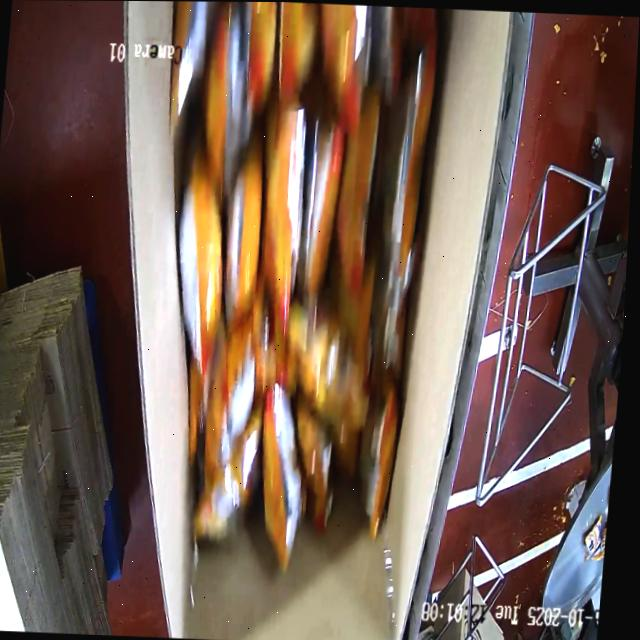FRENCH_CHEESE: (133, 1, 439, 553)
